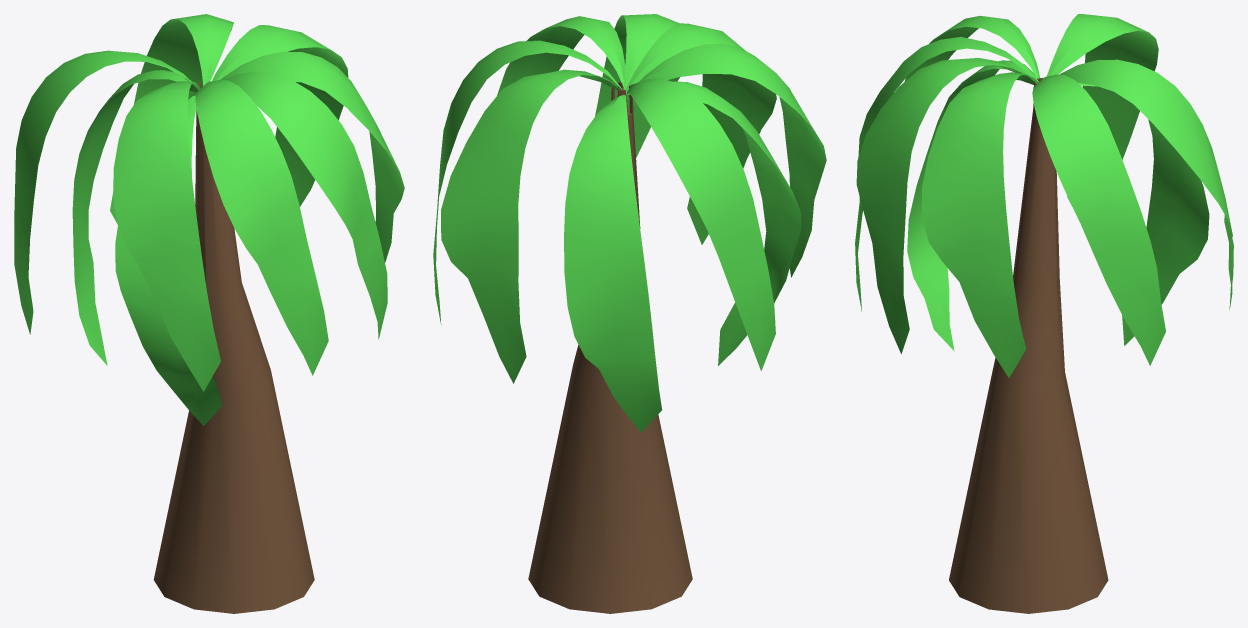
File: PalmTree2.fbx
The picture shows the model from 3 angles, left to right: view 1: azimuth 30°, elevation 25°; view 2: azimuth 150°, elevation 25°; view 3: azimuth 270°, elevation 25°; orthographic projection. The views are drawn at different scales.
Parts seen in each view (by area): view 1: palmTree2; view 2: palmTree2; view 3: palmTree2.
Boxes of the visible parts, x1,y1,x2,y2 form: palmTree2: (14,14,404,613); palmTree2: (433,14,826,613); palmTree2: (855,14,1233,613).
Size of the model in its own units: 241 by 376 by 249.
